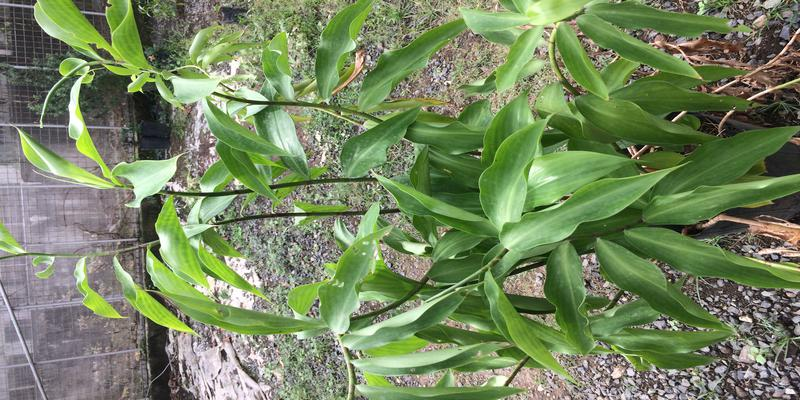Insulin: (79, 24, 757, 333)
